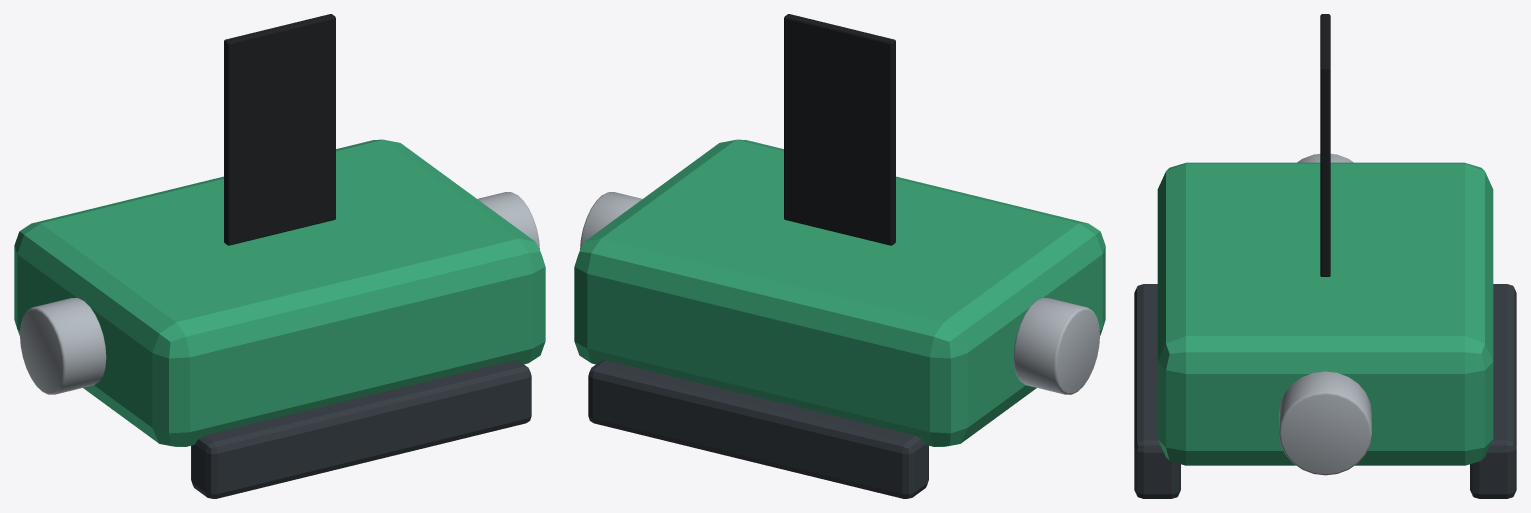
File: Air_Track_Glider_B.fbx
3 views of the same model, side by side, from view 1: azimuth 30°, elevation 25°; view 2: azimuth 150°, elevation 25°; view 3: azimuth 270°, elevation 25° (orthographic). The views are drawn at different scales.
Parts seen in each view (by area): view 1: GliderBody.001, PhotogateFlag.001, TrackShoeLeft.001, RearAttachment.001, FrontAttachment.001; view 2: GliderBody.001, PhotogateFlag.001, TrackShoeRight.001, RearAttachment.001, FrontAttachment.001; view 3: GliderBody.001, FrontAttachment.001, TrackShoeLeft.001, TrackShoeRight.001, PhotogateFlag.001.
Part boxes in pixels (x1,y1,x2,y2): GliderBody.001: (14, 139, 545, 446); PhotogateFlag.001: (224, 14, 335, 245); TrackShoeLeft.001: (191, 360, 531, 498); RearAttachment.001: (20, 298, 106, 394); FrontAttachment.001: (477, 192, 539, 249); GliderBody.001: (574, 139, 1105, 446); PhotogateFlag.001: (784, 14, 895, 245); TrackShoeRight.001: (588, 360, 928, 498); RearAttachment.001: (1013, 298, 1099, 394); FrontAttachment.001: (580, 192, 642, 249); GliderBody.001: (1157, 162, 1493, 465); FrontAttachment.001: (1279, 371, 1371, 475); TrackShoeLeft.001: (1134, 284, 1180, 498); TrackShoeRight.001: (1470, 284, 1516, 498); PhotogateFlag.001: (1320, 14, 1330, 276).
Bounding box in the file's own units: 0.22 × 0.1625 × 0.148.
